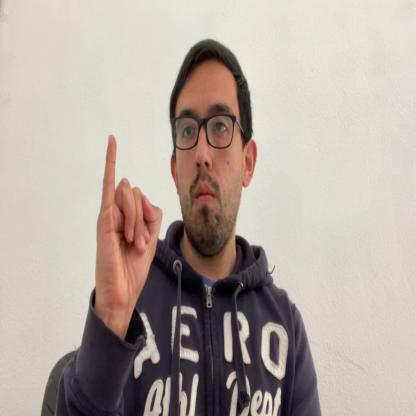I: (95, 135, 164, 318)
